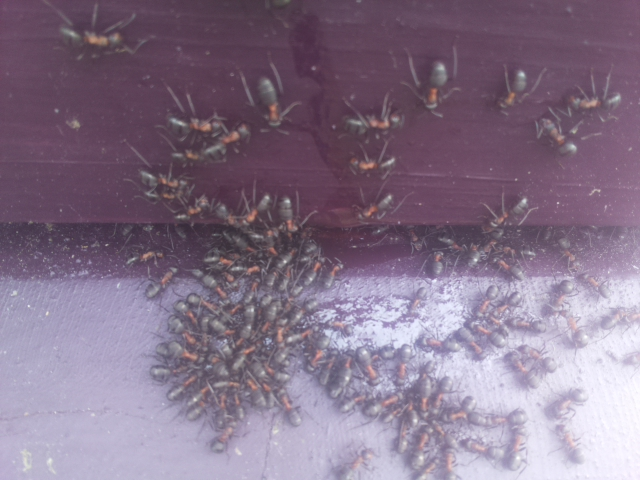ant: (248, 63, 294, 140), (475, 185, 536, 243), (531, 105, 586, 169), (164, 285, 224, 341), (261, 372, 312, 436), (193, 116, 258, 165), (338, 101, 408, 143), (129, 163, 198, 203), (55, 14, 122, 53), (225, 188, 279, 231), (347, 187, 402, 228), (140, 257, 185, 307), (549, 417, 591, 468), (415, 60, 456, 111), (183, 263, 235, 302), (161, 368, 208, 411), (158, 111, 230, 139), (491, 63, 529, 112), (358, 388, 409, 421), (333, 445, 381, 480), (204, 413, 241, 457), (544, 273, 580, 318), (564, 87, 620, 115), (275, 189, 306, 238), (166, 196, 218, 225), (548, 385, 589, 418), (354, 343, 385, 385), (394, 412, 425, 453), (345, 150, 399, 173), (556, 233, 585, 274), (599, 304, 640, 333), (471, 320, 511, 349), (327, 356, 354, 398), (508, 351, 539, 386), (403, 283, 433, 319), (491, 255, 529, 281), (318, 256, 345, 291), (525, 344, 556, 372), (506, 433, 527, 470), (581, 274, 611, 299), (565, 315, 589, 345), (476, 283, 497, 317), (493, 292, 522, 314), (450, 397, 475, 420), (513, 317, 547, 331)
